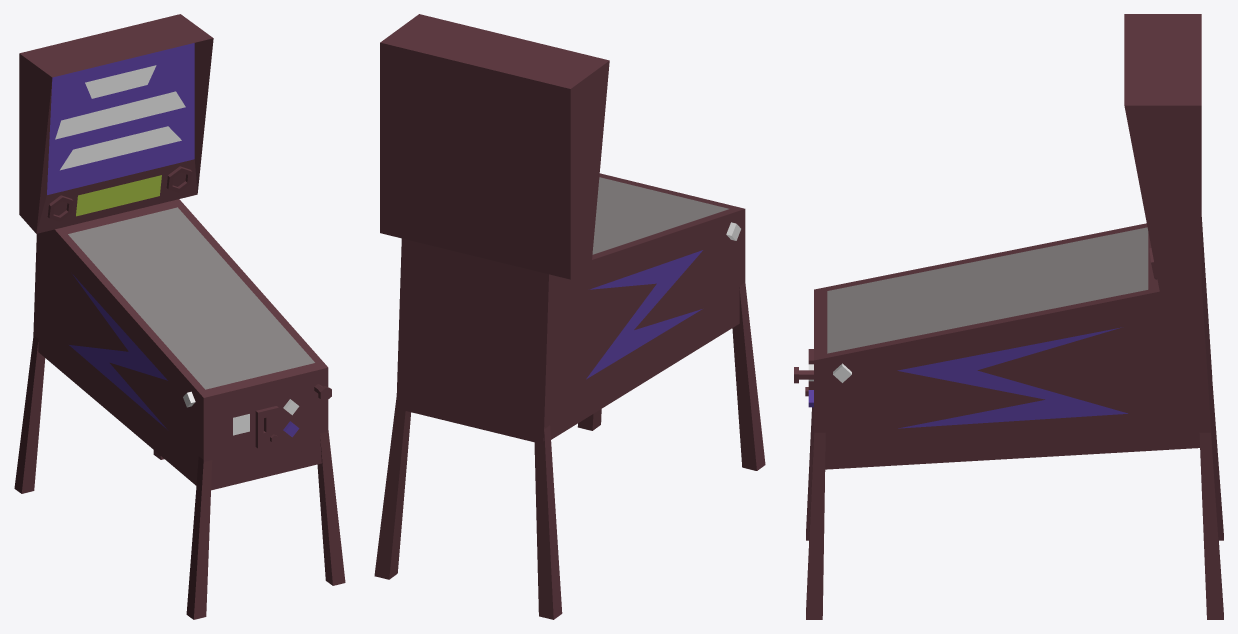
Rendered from pinball-machine-space.fbx.
The picture shows the model from 3 angles, left to right: view 1: azimuth 30°, elevation 25°; view 2: azimuth 150°, elevation 25°; view 3: azimuth 270°, elevation 25°; orthographic projection. The views are drawn at different scales.
Visible parts, largest first — view 1: pinball-machine-space; view 2: pinball-machine-space; view 3: pinball-machine-space.
Boxes of the visible parts, box(x1,y1,x2,y2) form: pinball-machine-space: box(14, 14, 345, 619); pinball-machine-space: box(374, 14, 765, 619); pinball-machine-space: box(794, 14, 1223, 619).
Bounding box in the file's own units: 0.7284 × 1.91 × 1.44.
